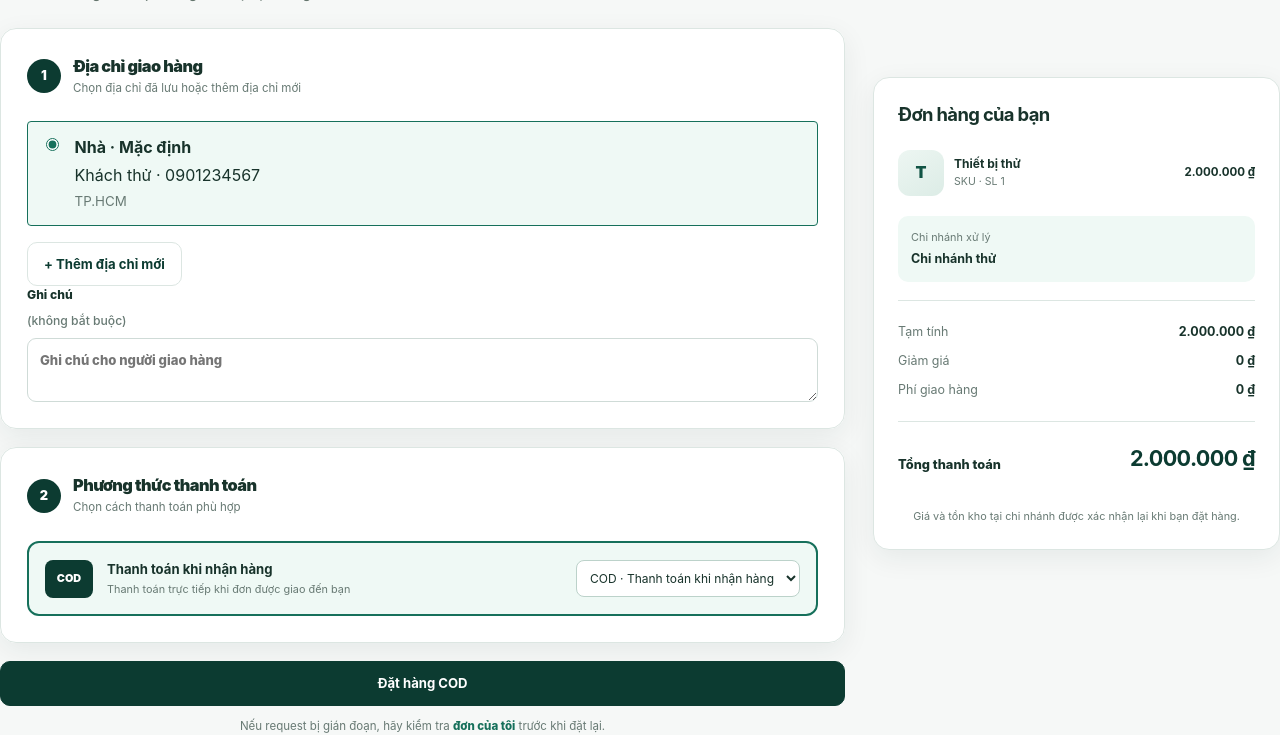
Test case: checkout installment sends only application fields and shows the remaining amount
The width and height of the screenshot is (1280, 735).
(page scrolled)
Select "Trả góp nội bộ" in the dropdown named "Phương thức thanh toán" at (688, 579), box [576,560,800,597]
(page scrolled)
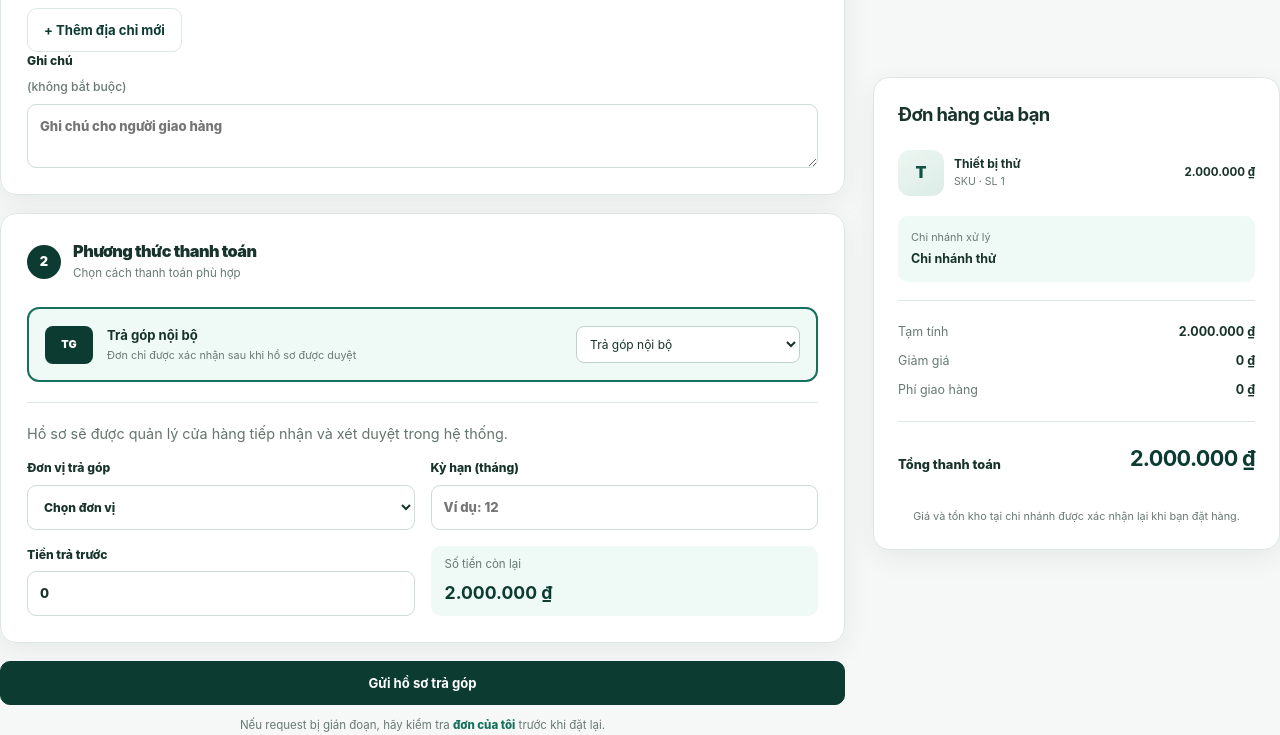
Select "Đơn vị nội bộ" in the dropdown labelled "Đơn vị trả góp" at (221, 508), box [27,486,414,530]
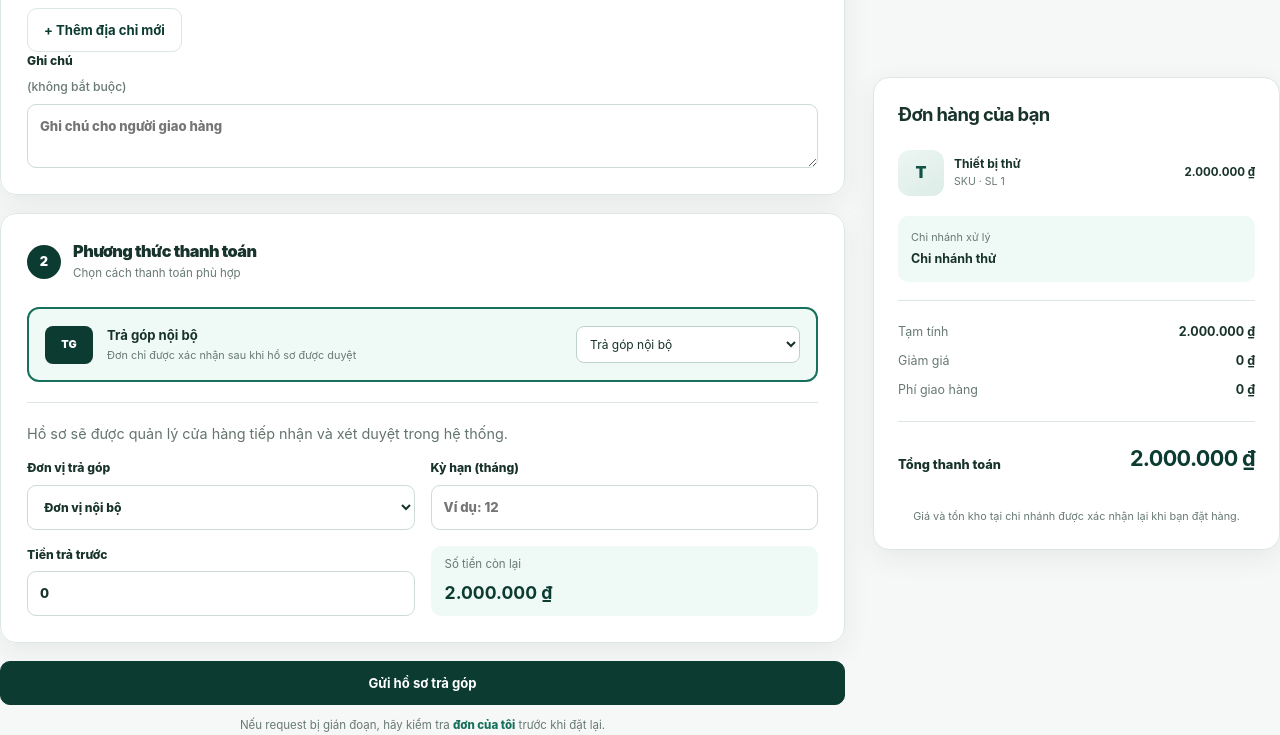
Type "12" into the number field labelled "Kỳ hạn (tháng)" at (624, 507), box [430,485,818,530]
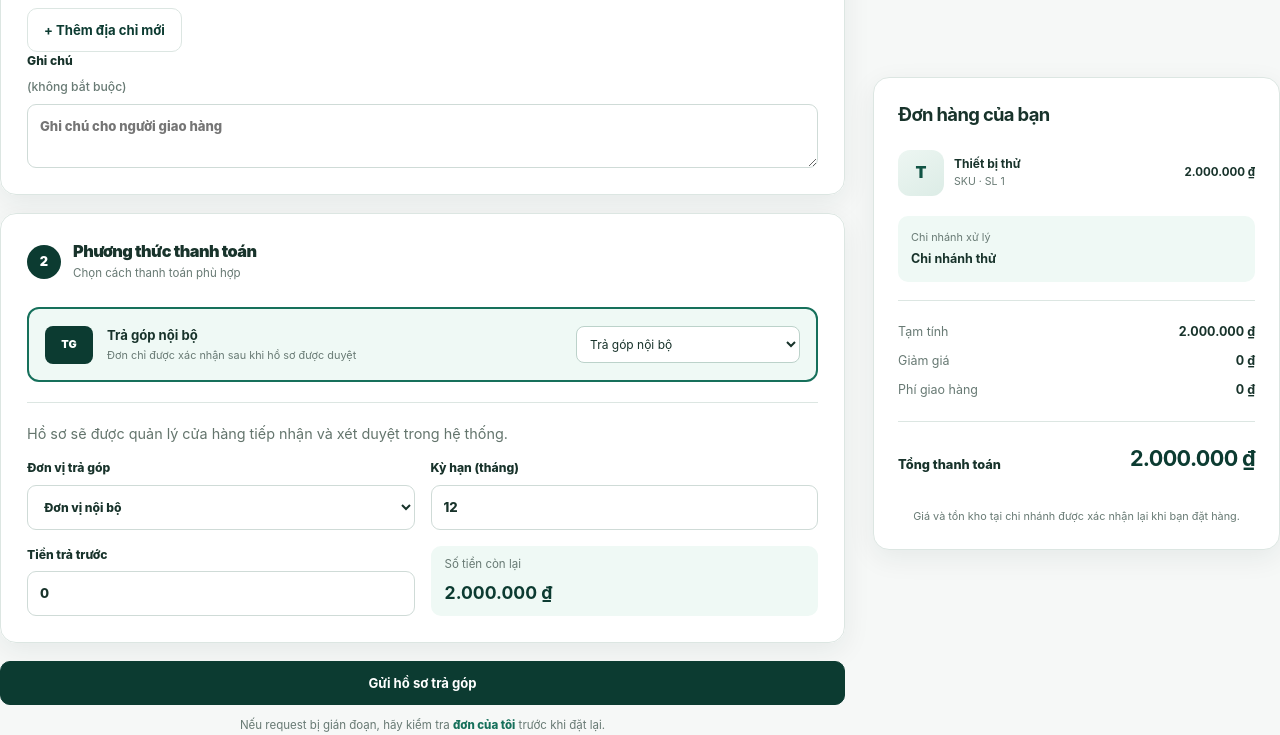
Replace the text in the number field labelled "Tiền trả trước" with "500000" at (221, 594), box [27,572,414,616]
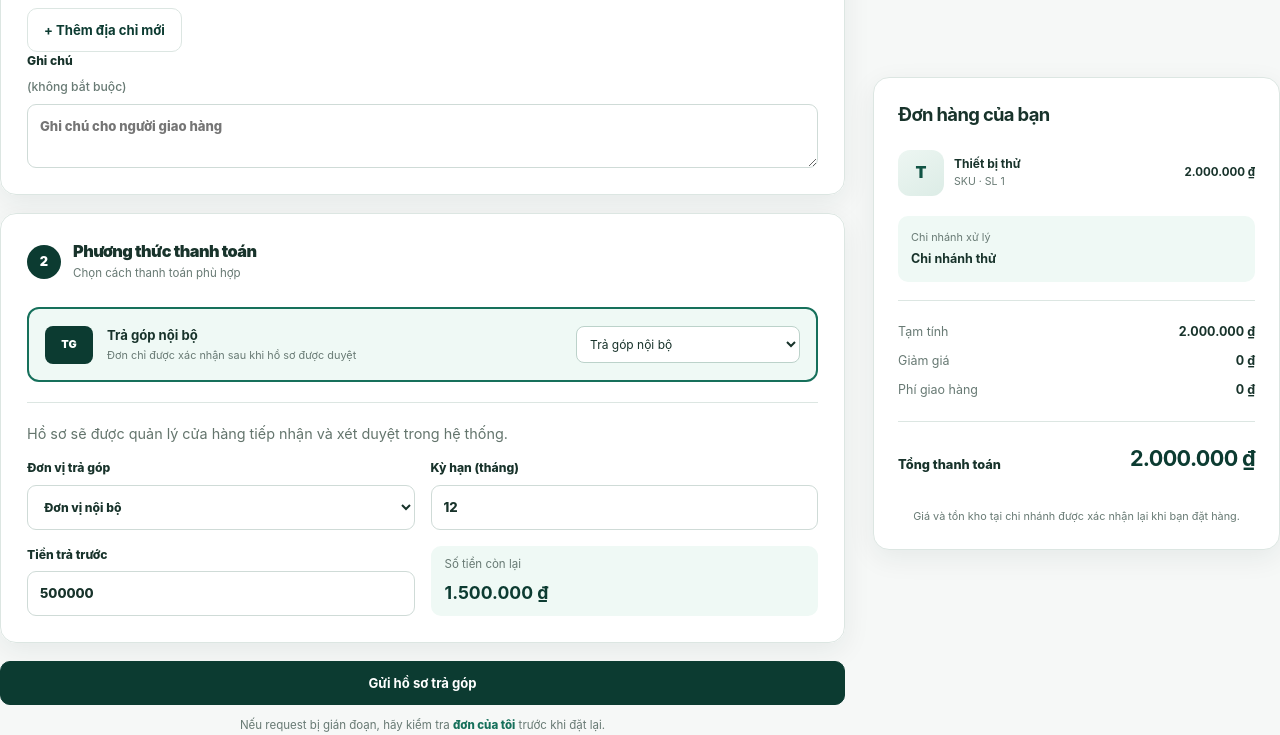
Now the text "1.500.000 ₫" is shown, box [444,582,548,602]
Click the button "Gửi hồ sơ trả góp" at (423, 683), box [0,661,845,705]
(page scrolled)
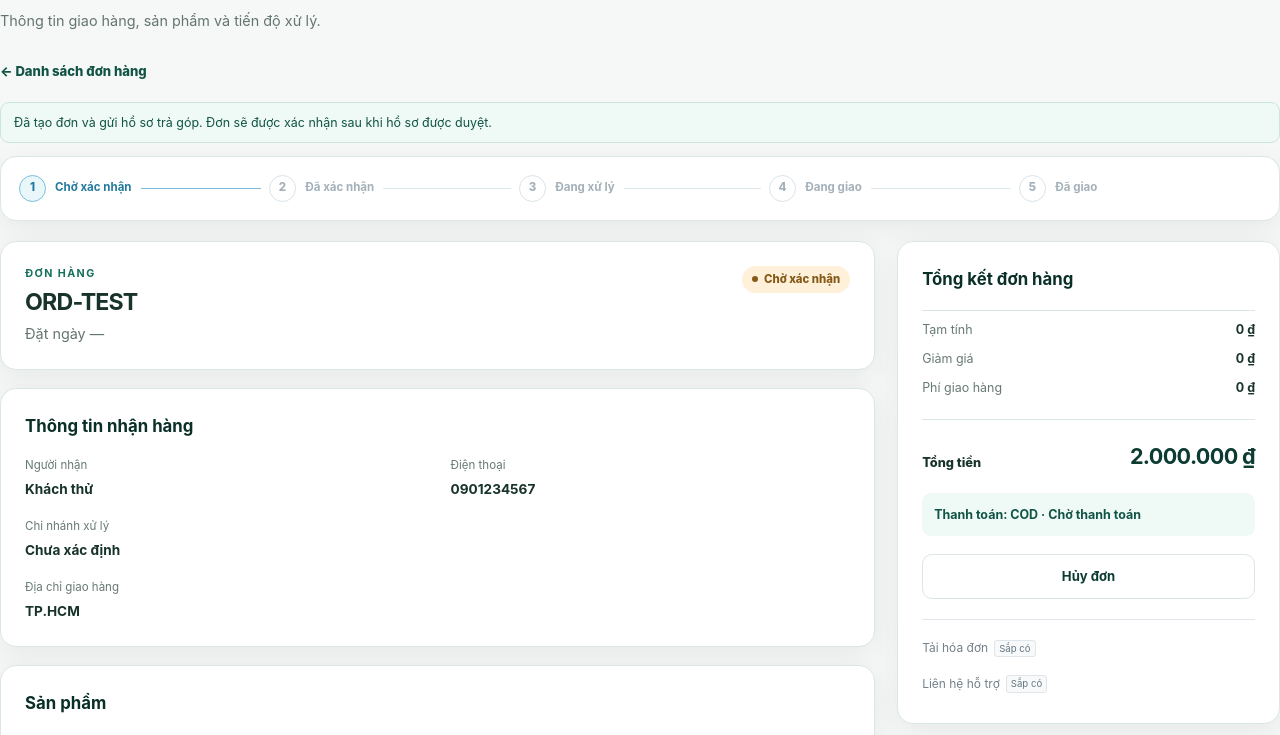
Now the text "Đã tạo đơn và gửi hồ sơ trả góp. Đơn sẽ được xác nhận sau khi hồ sơ được duyệt." is shown, box [0,102,1279,143]
